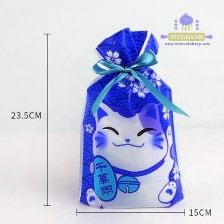snack: (70, 20, 191, 216)
